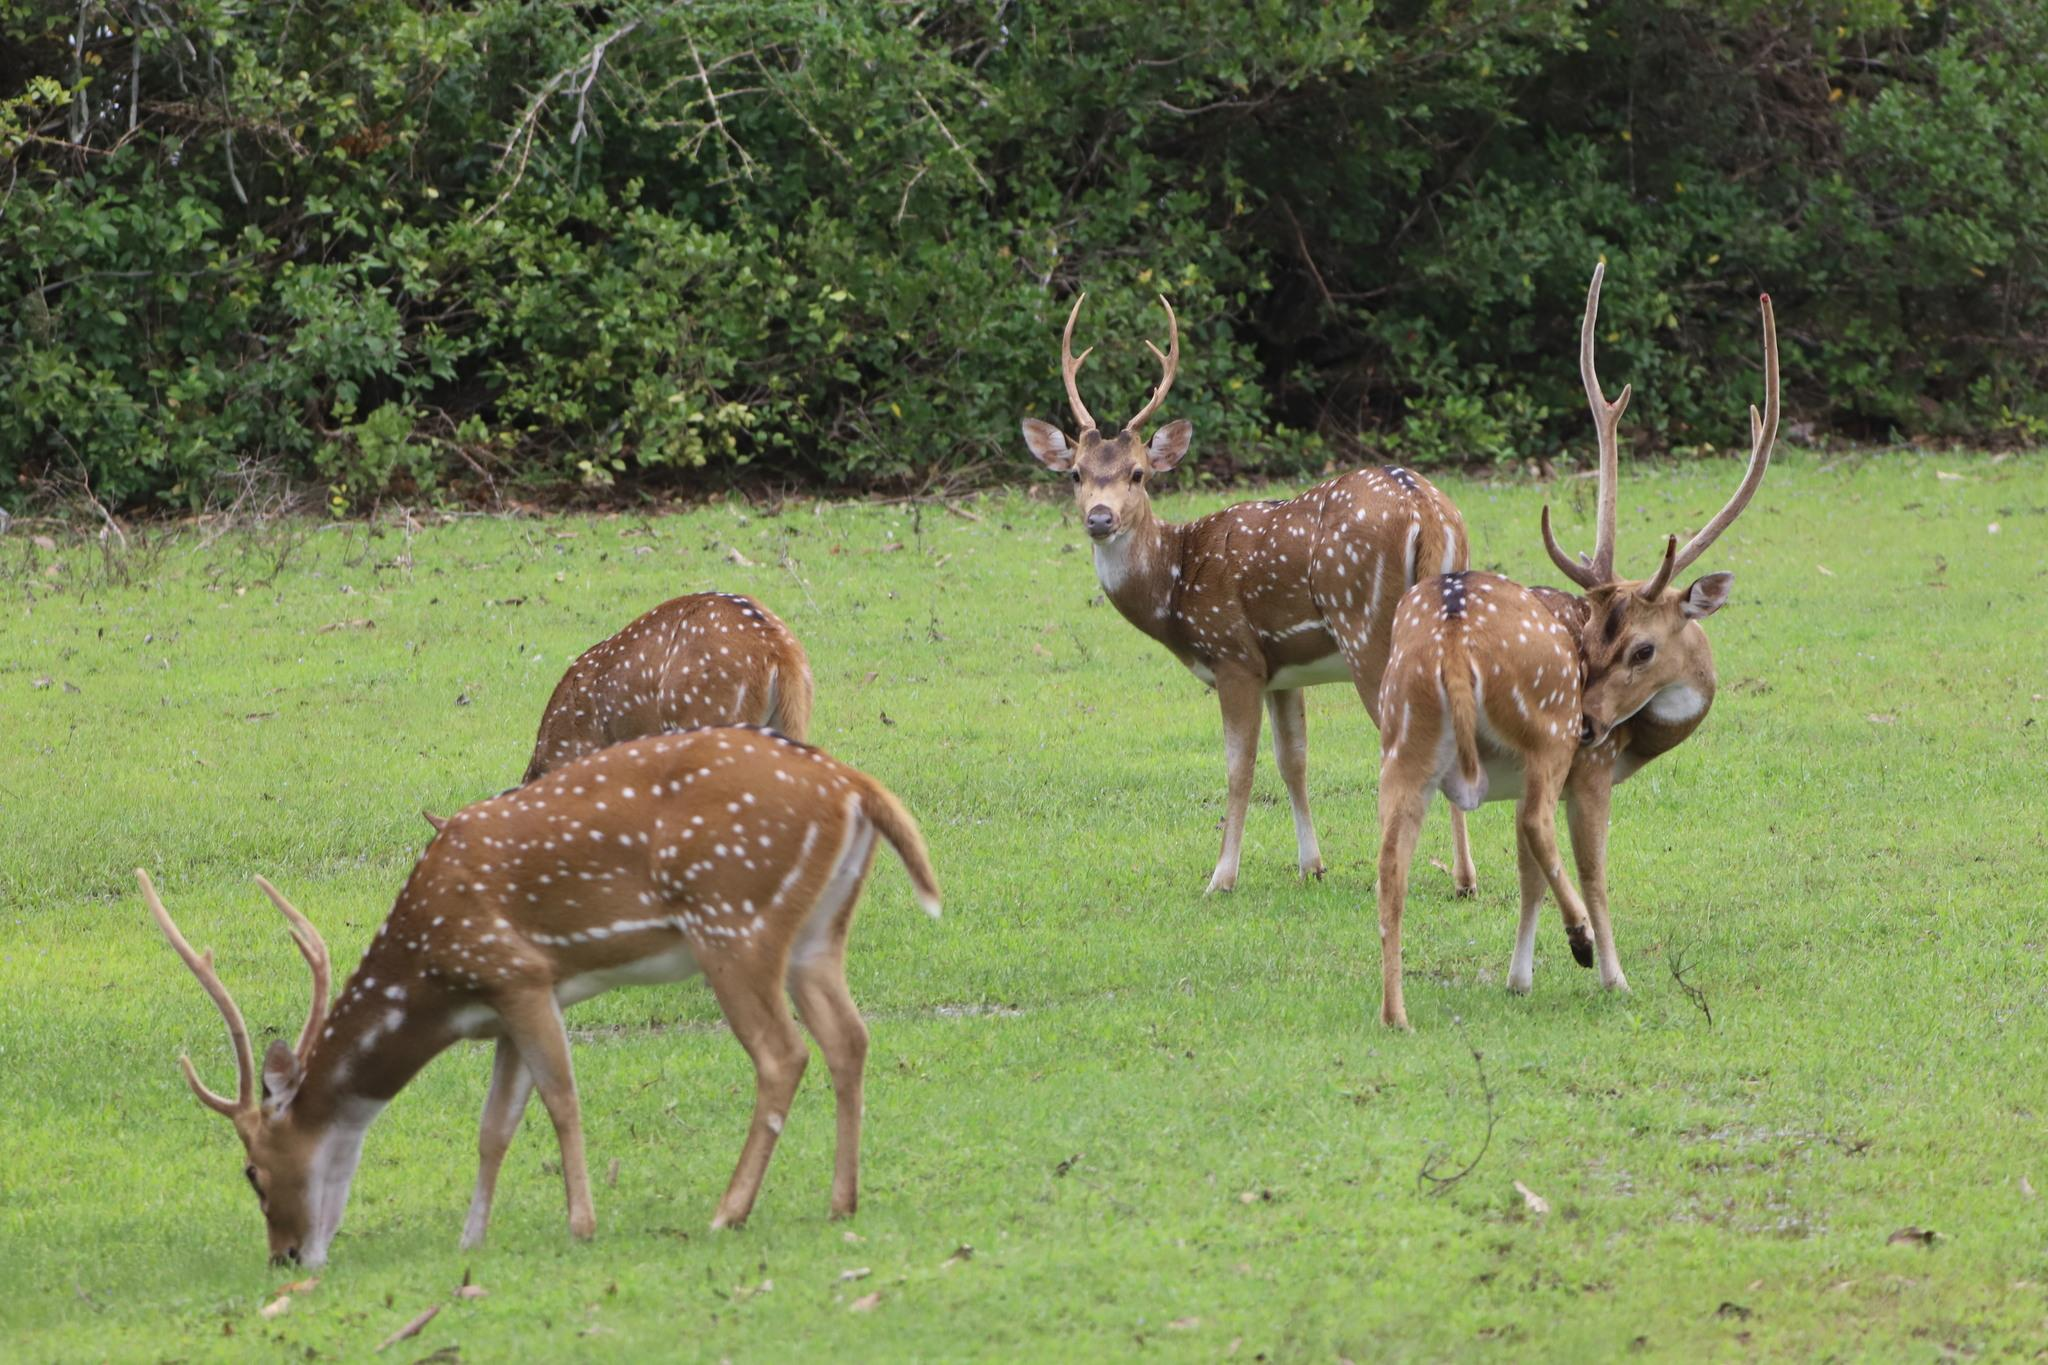Deer: (137, 727, 939, 1267), (1376, 262, 1778, 1025), (1022, 299, 1468, 893)
